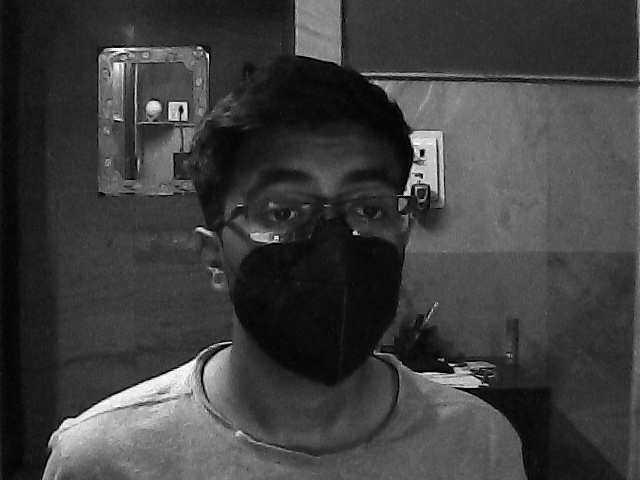mask: (222, 145, 418, 381)
